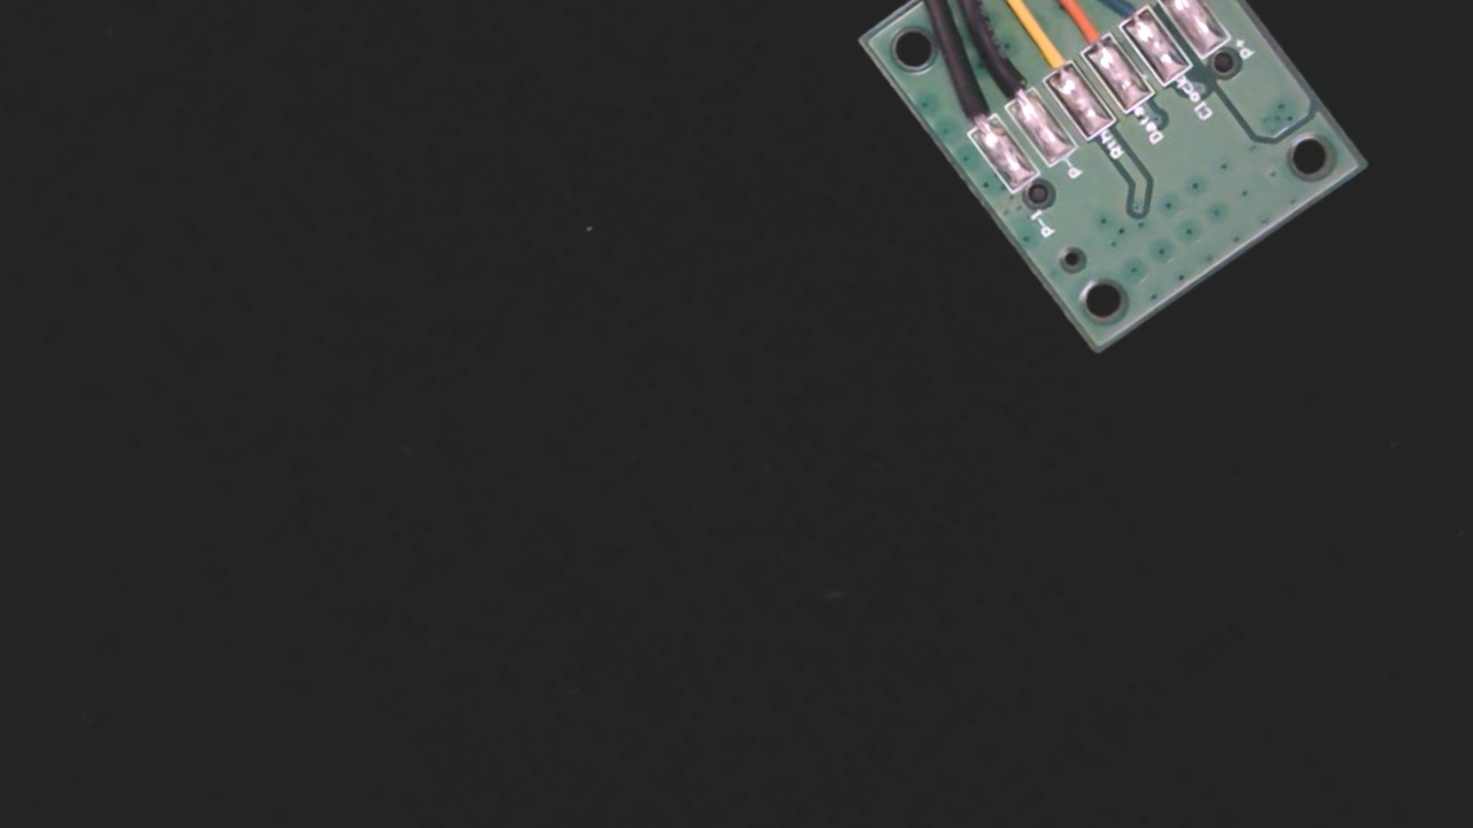Black: (971, 43, 1047, 122)
Black1: (929, 68, 1011, 154)
Green: (1078, 0, 1163, 48)
Orange: (1041, 0, 1125, 72)
Red: (1120, 0, 1202, 16)
Yellow: (1000, 3, 1087, 96)
